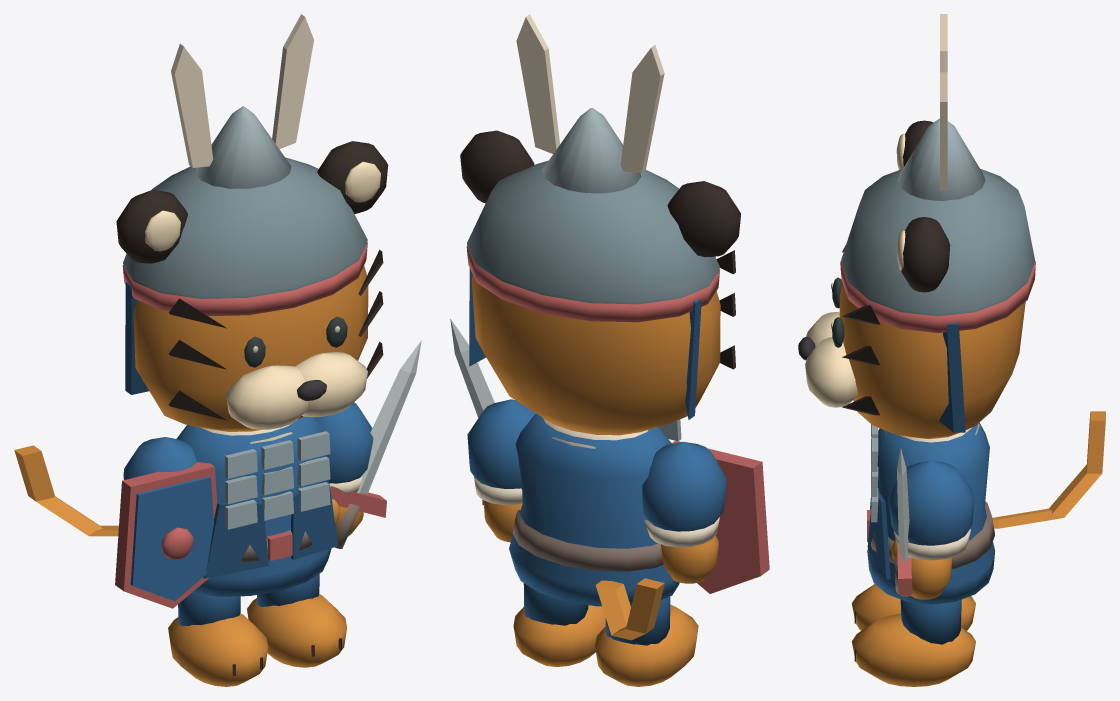
Rendered from warrior.glb.
3 views of the same model, side by side, from view 1: azimuth 30°, elevation 25°; view 2: azimuth 150°, elevation 25°; view 3: azimuth 270°, elevation 25° (orthographic). The views are drawn at different scales.
Parts seen in each view (by area): view 1: Regional helmet, Animal cheek head, Short folded tunic, Regional shield face, Soft animal paw, Soft animal paw.001, Goguryeo pointed crown, Tiger white muzzle, Helmet brow band, Shield gold rim, Feather plume.001, Feather plume (+26 smaller); view 2: Regional helmet, Animal cheek head, Short folded tunic, Shield gold rim, Puff sleeve, Goguryeo pointed crown, Helmet brow band, Soft animal paw, Puff sleeve.001, Tiger round ear, Soft animal paw.001, Broad leather belt (+14 smaller); view 3: Regional helmet, Animal cheek head, Short folded tunic, Soft animal paw.001, Puff sleeve.001, Goguryeo pointed crown, Helmet brow band, Tiger round ear.001, Curved animal tail, Tiger white muzzle.001, Stubby trouser.001, Lamellar neck flap.001 (+11 smaller).
Boxes of the visible parts, bbox=[...] form: Regional helmet: bbox=[123, 157, 367, 298]; Animal cheek head: bbox=[133, 265, 368, 431]; Short folded tunic: bbox=[176, 416, 331, 596]; Regional shield face: bbox=[130, 476, 213, 601]; Soft animal paw: bbox=[168, 613, 268, 686]; Soft animal paw.001: bbox=[247, 594, 346, 667]; Goguryeo pointed crown: bbox=[195, 106, 291, 188]; Tiger white muzzle: bbox=[226, 365, 308, 429]; Helmet brow band: bbox=[122, 242, 367, 316]; Shield gold rim: bbox=[115, 462, 217, 608]; Feather plume.001: bbox=[272, 14, 313, 149]; Feather plume: bbox=[171, 44, 213, 167]; Regional helmet: bbox=[467, 160, 719, 304]; Animal cheek head: bbox=[471, 275, 720, 435]; Short folded tunic: bbox=[509, 413, 679, 606]; Shield gold rim: bbox=[671, 440, 769, 593]; Puff sleeve: bbox=[642, 441, 726, 531]; Goguryeo pointed crown: bbox=[542, 108, 641, 193]; Helmet brow band: bbox=[466, 246, 719, 322]; Soft animal paw: bbox=[595, 604, 698, 686]; Puff sleeve.001: bbox=[467, 399, 535, 488]; Tiger round ear: bbox=[667, 181, 740, 257]; Soft animal paw.001: bbox=[513, 605, 605, 666]; Broad leather belt: bbox=[512, 510, 663, 571]; Regional helmet: bbox=[841, 168, 1034, 316]; Animal cheek head: bbox=[839, 284, 1025, 439]; Short folded tunic: bbox=[867, 422, 994, 604]; Soft animal paw.001: bbox=[851, 613, 975, 686]; Puff sleeve.001: bbox=[888, 460, 974, 545]; Goguryeo pointed crown: bbox=[897, 118, 985, 200]; Helmet brow band: bbox=[840, 260, 1035, 332]; Tiger round ear.001: bbox=[901, 217, 950, 292]; Curved animal tail: bbox=[992, 411, 1105, 528]; Tiger white muzzle.001: bbox=[805, 337, 857, 407]; Stubby trouser.001: bbox=[900, 599, 961, 644]; Lamellar neck flap.001: bbox=[939, 322, 965, 432].
Bounding box in the file's own units: 1 × 1.98 × 0.89.
